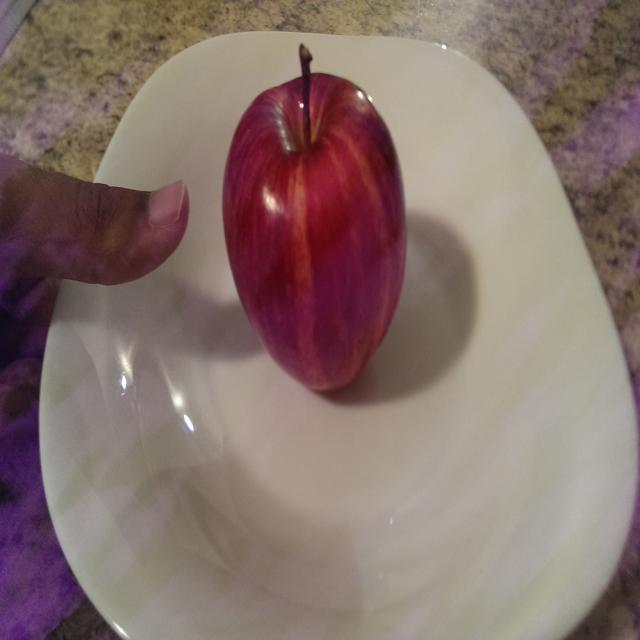Apple: (213, 38, 416, 402)
Finger: (60, 167, 196, 295)
